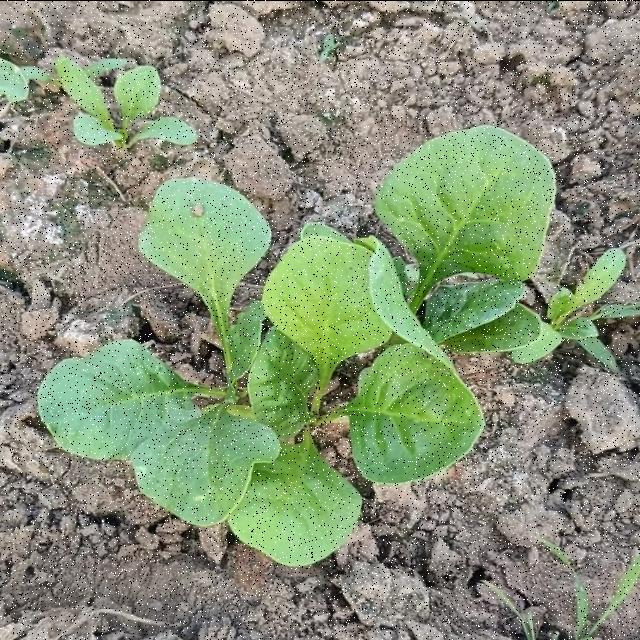plant: (39, 125, 626, 566), (53, 56, 159, 145), (135, 116, 195, 144)
